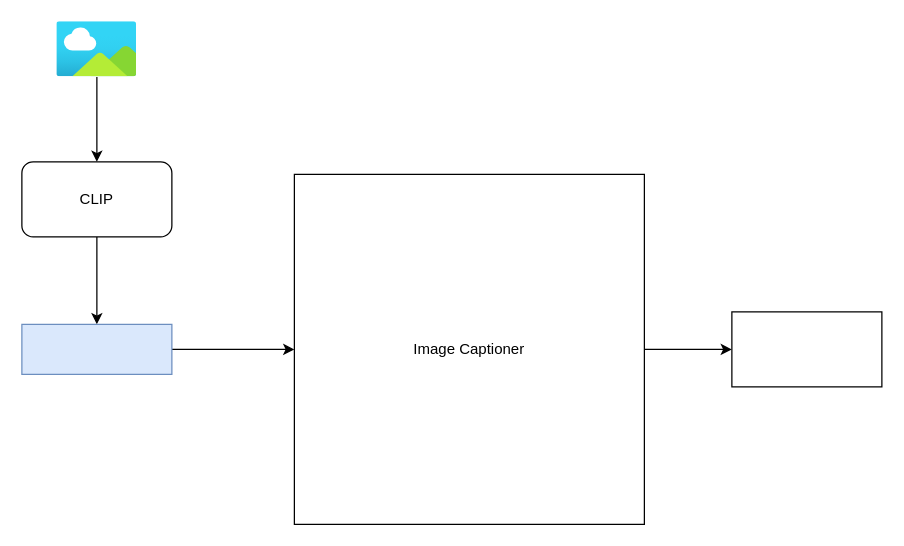
This 904x546 diagram has some shape labels left out. The shapes that lost their labels are listed below. From the top down, each one's centre as x and y in pixels, then its label:
At point (96, 348): "Image Embedding".
At point (806, 349): "Training Caption".
